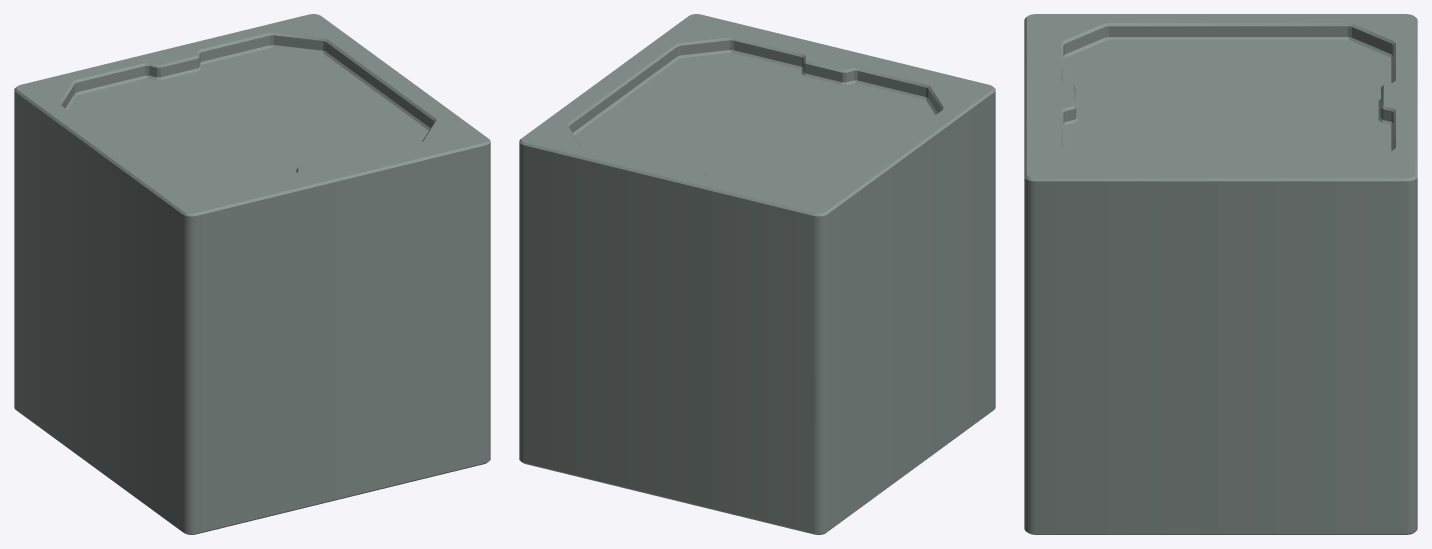
File: Env_Floor_SpaceStation_IndentFlooring_1x1.fbx
The picture shows the model from 3 angles, left to right: view 1: azimuth 30°, elevation 25°; view 2: azimuth 150°, elevation 25°; view 3: azimuth 270°, elevation 25°; orthographic projection. The views are drawn at different scales.
Parts seen in each view (by area): view 1: Env_Floor_SpaceStation_IndentFlooring_1x1; view 2: Env_Floor_SpaceStation_IndentFlooring_1x1; view 3: Env_Floor_SpaceStation_IndentFlooring_1x1.
Boxes of the visible parts, <box> form: Env_Floor_SpaceStation_IndentFlooring_1x1: <box>14,14,490,534</box>; Env_Floor_SpaceStation_IndentFlooring_1x1: <box>519,14,995,534</box>; Env_Floor_SpaceStation_IndentFlooring_1x1: <box>1024,14,1417,534</box>.
Size of the model in its own units: 100 by 100 by 100.
